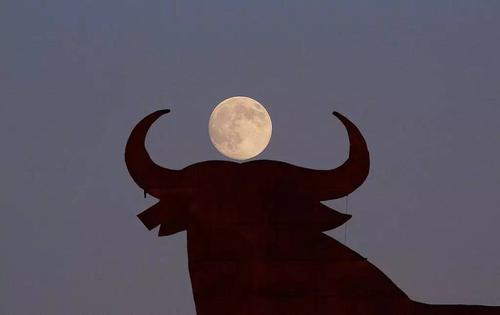moon: (207, 94, 273, 160)
